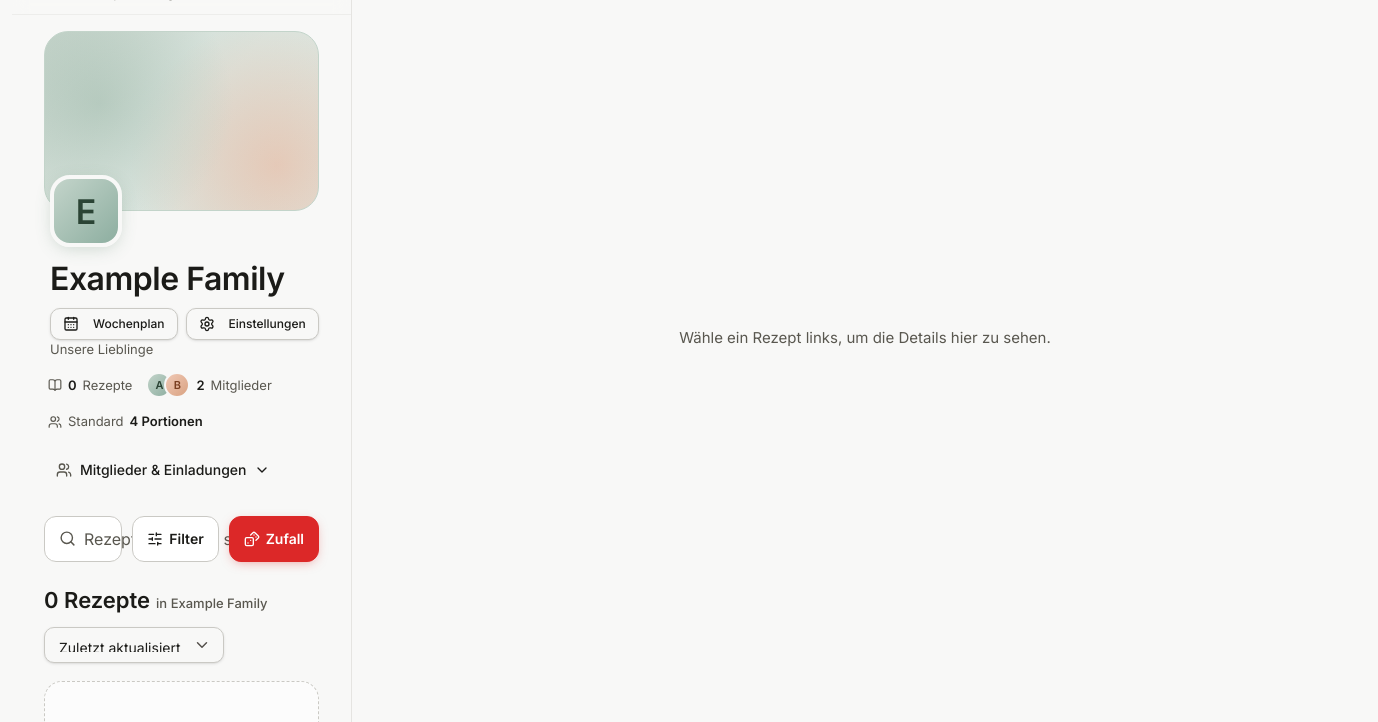
Test case: <GroupDetailPage /> › typing into the search box updates the URL (debounced)
Type "Schnitzel" into the search field labelled "Rezept oder Zutat suchen…" at (201, 539), box [84,517,318,561]
(page scrolled)
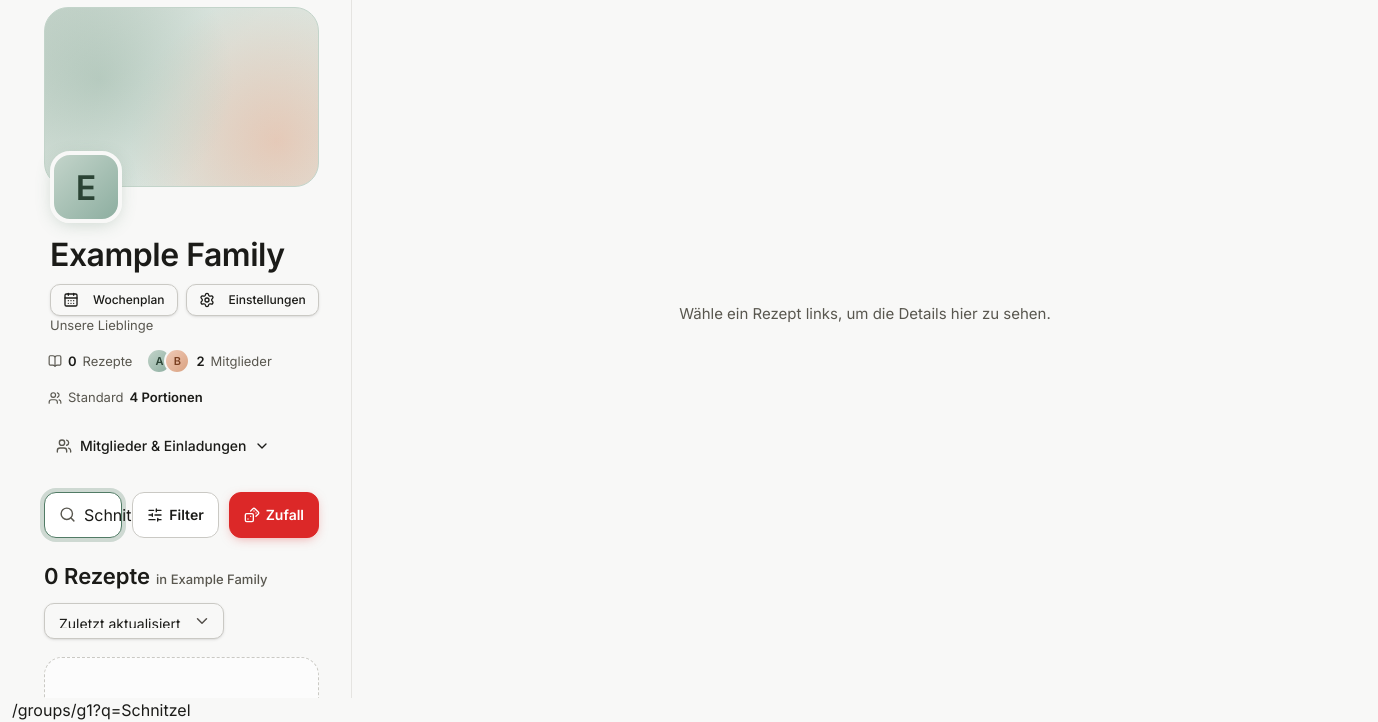
Expected: the text with test id "location-probe" shows "q=Schnitzel", [93,700,190,720]
